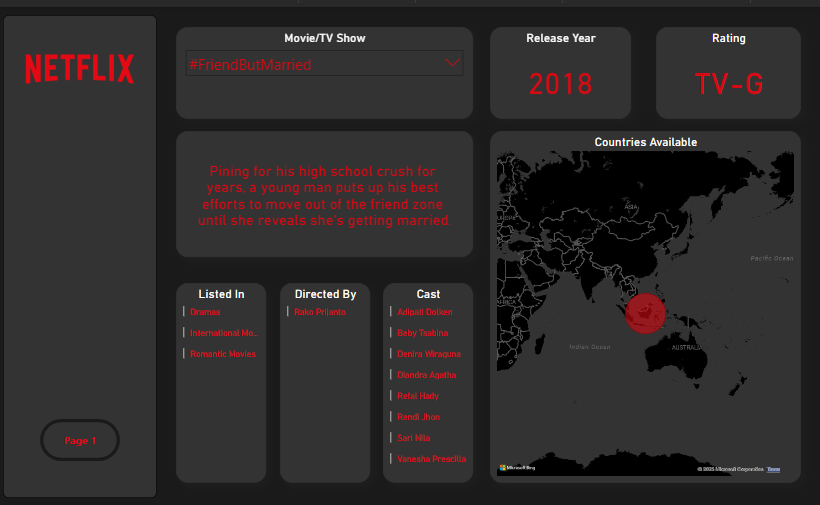

The page's visual inventory and layout, read from the dashboard file:
{"tool":"powerbi","page":{"name":"Single Title View","canvas":[1500,900],"ordinal":1},"visuals":[{"type":"multiRowCard","title":"Cast","fields":{"Values":["netflix_data netflix_cast.cast"]},"box":[697.6,498.8,162.7,361.4],"z":0},{"type":"shape","box":[10.8,14.5,278.3,872.9],"z":1000},{"type":"card","title":"Rating","fields":{"Values":["Min(netflix_data titles.rating)"]},"box":[1191,36.1,262,166.3],"z":2000},{"type":"map","title":"Countries Available","fields":{"Size":["CountNonNull(netflix_data countries_released.show_id)"],"Category":["netflix_data countries_released.country"]},"box":[891,224.1,562,636.1],"z":3000},{"type":"image","box":[10.8,36.1,278.3,144.6],"z":4000},{"type":"card","title":"Release Year","fields":{"Values":["Sum(netflix_data titles.release_year)"]},"box":[891,36.1,254.8,166.3],"z":5000},{"type":"slicer","title":"Movie/TV Show","fields":{"Values":["netflix_data titles.title"]},"box":[323.5,36.1,536.7,166.3],"z":6000},{"type":"multiRowCard","title":"Directed By","fields":{"Values":["netflix_data netflix_directors.director"]},"box":[511.4,498.8,162.7,361.4],"z":7000},{"type":"multiRowCard","title":"Listed In","fields":{"Values":["netflix_data netflix_listed_in.category"]},"box":[323.5,498.8,162.7,361.4],"z":8000},{"type":"card","title":"Release Year","fields":{"Values":["Min(netflix_data description.description)"]},"box":[323.5,224.1,536.7,227.7],"z":9000},{"type":"actionButton","box":[77.7,744.6,144.6,75.9],"z":9001}]}

Visuals, with their boxes in screenshot pixels (x1, y1, x2, y2), scaled from the page's 1500x900 canvas onto the 820x505 screenshot:
"Cast" multiRowCard: bbox(381, 280, 470, 483)
shape: bbox(6, 8, 158, 498)
"Rating" card: bbox(651, 20, 794, 114)
"Countries Available" map: bbox(487, 126, 794, 483)
image: bbox(6, 20, 158, 101)
"Release Year" card: bbox(487, 20, 626, 114)
"Movie/TV Show" slicer: bbox(177, 20, 470, 114)
"Directed By" multiRowCard: bbox(280, 280, 369, 483)
"Listed In" multiRowCard: bbox(177, 280, 266, 483)
"Release Year" card: bbox(177, 126, 470, 254)
actionButton: bbox(42, 418, 122, 460)
